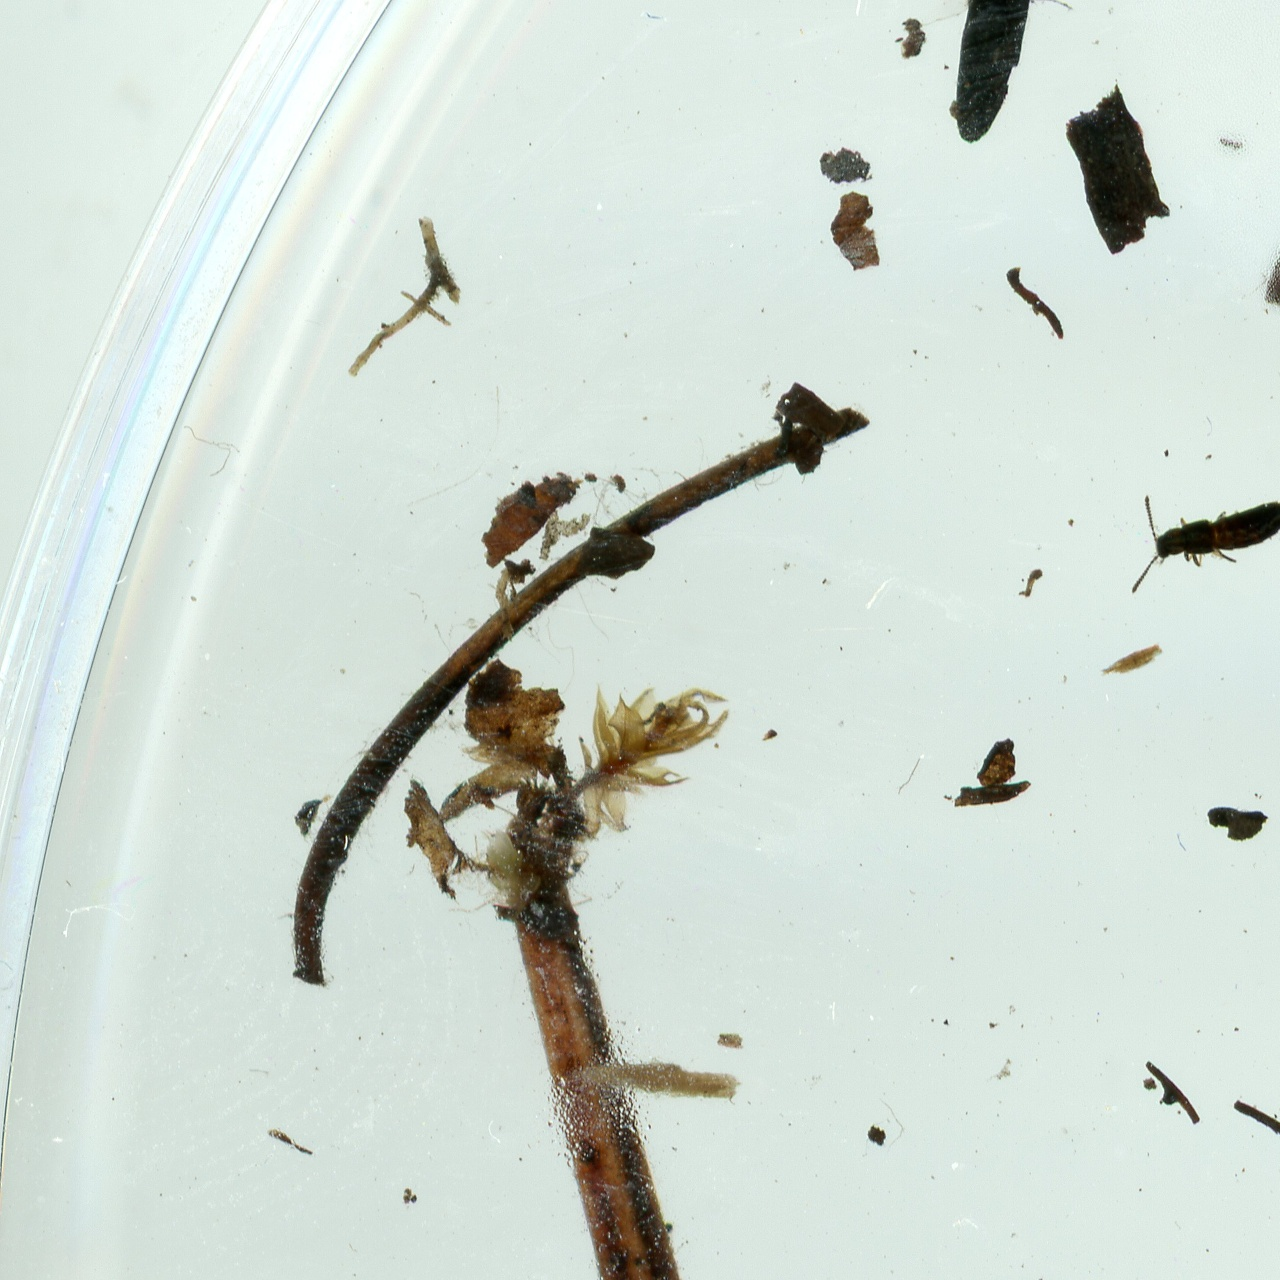arthropod: (1122, 483, 1280, 602)
